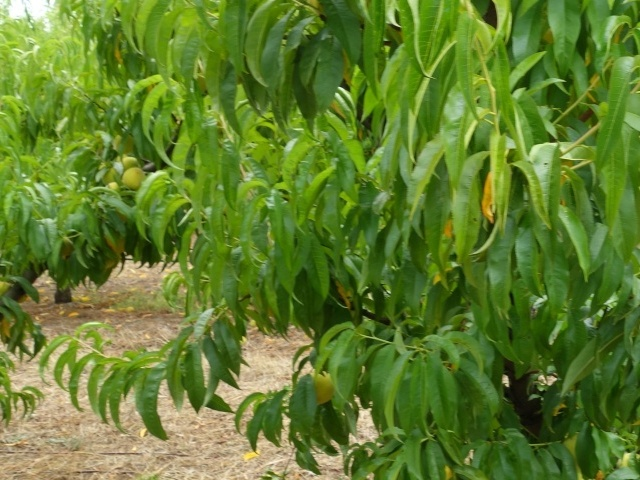peach: (304, 368, 336, 407), (119, 166, 147, 192), (114, 155, 141, 176)
